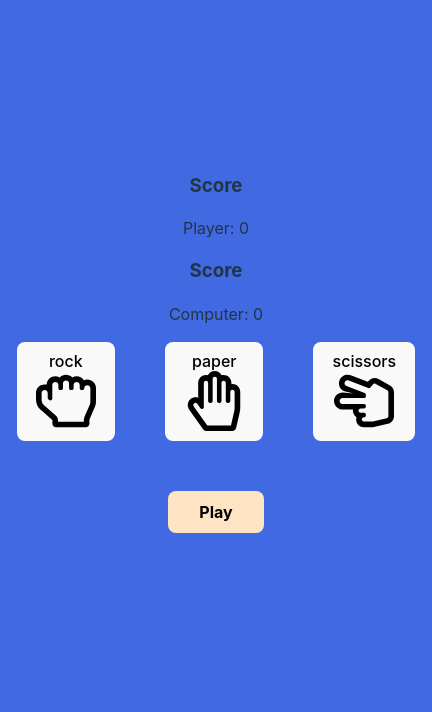
ScoreAndResults › should display the Draw message on the page
Click the button "rock" at (66, 391), box 17,342 -> 115,441
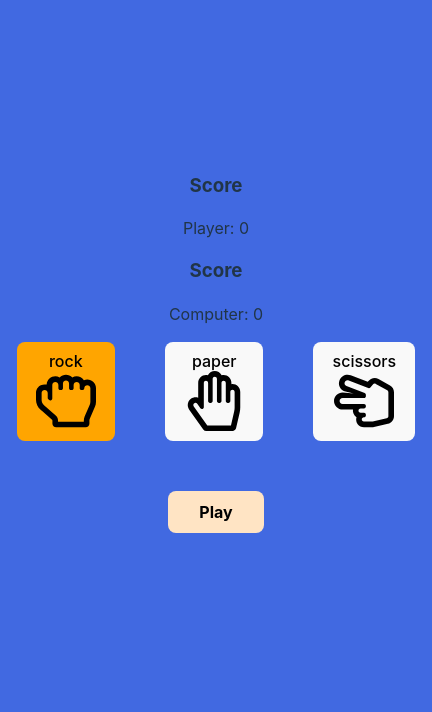
Click the button "Play" at (216, 512), box 168,491 -> 264,533
Wait 3000 ms
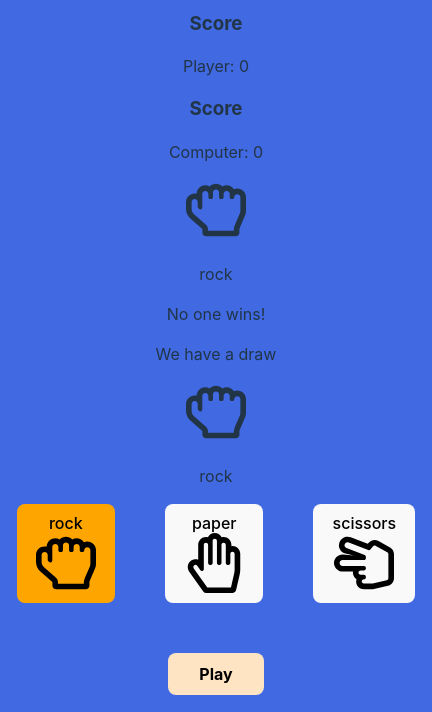
Now the text "No one wins!" is shown, box 167,304 -> 265,324
Now the text "We have a draw" is shown, box 156,344 -> 276,364
Now the 1st icon with test id "rock" is shown, box 186,180 -> 246,240
